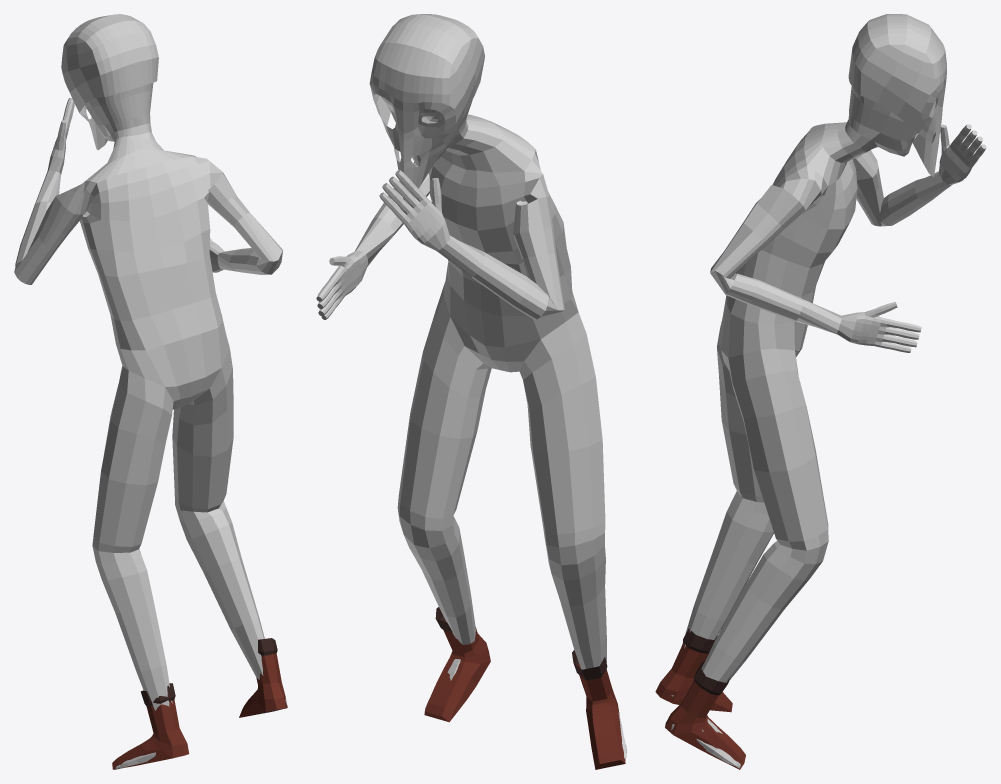
Rendered from correr_000164.obj.
3 renders of one model, left to right at view 1: azimuth 30°, elevation 25°; view 2: azimuth 150°, elevation 25°; view 3: azimuth 270°, elevation 25°, orthographic. The views are drawn at different scales.
Visible parts, largest first — view 1: Plane.002_Plane.001, Plane.004, Plane.003; view 2: Plane.002_Plane.001, Plane.004, Plane.003; view 3: Plane.002_Plane.001, Plane.003, Plane.004.
Boxes of the visible parts, bbox=[...] form: Plane.002_Plane.001: bbox=[14, 14, 286, 769]; Plane.004: bbox=[112, 683, 189, 769]; Plane.003: bbox=[239, 638, 287, 717]; Plane.002_Plane.001: bbox=[316, 14, 626, 761]; Plane.004: bbox=[572, 650, 625, 769]; Plane.003: bbox=[424, 607, 490, 722]; Plane.002_Plane.001: bbox=[671, 14, 986, 768]; Plane.003: bbox=[665, 661, 745, 769]; Plane.004: bbox=[655, 628, 732, 712].
Bounding box in the file's own units: 2.1 × 6.83 × 2.83.
